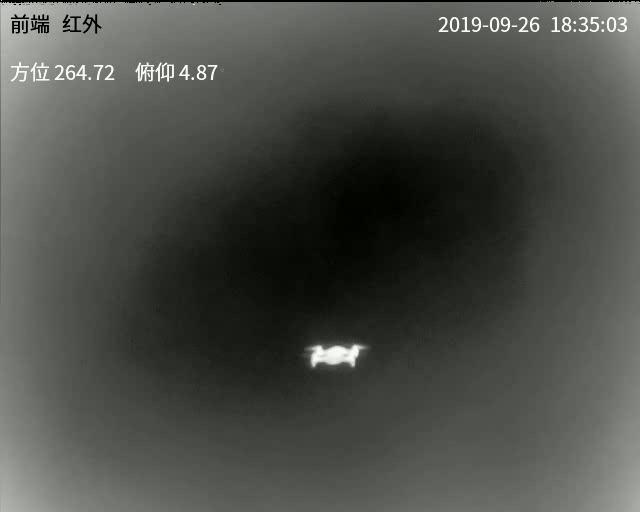DRONE: (304, 343, 364, 368)
